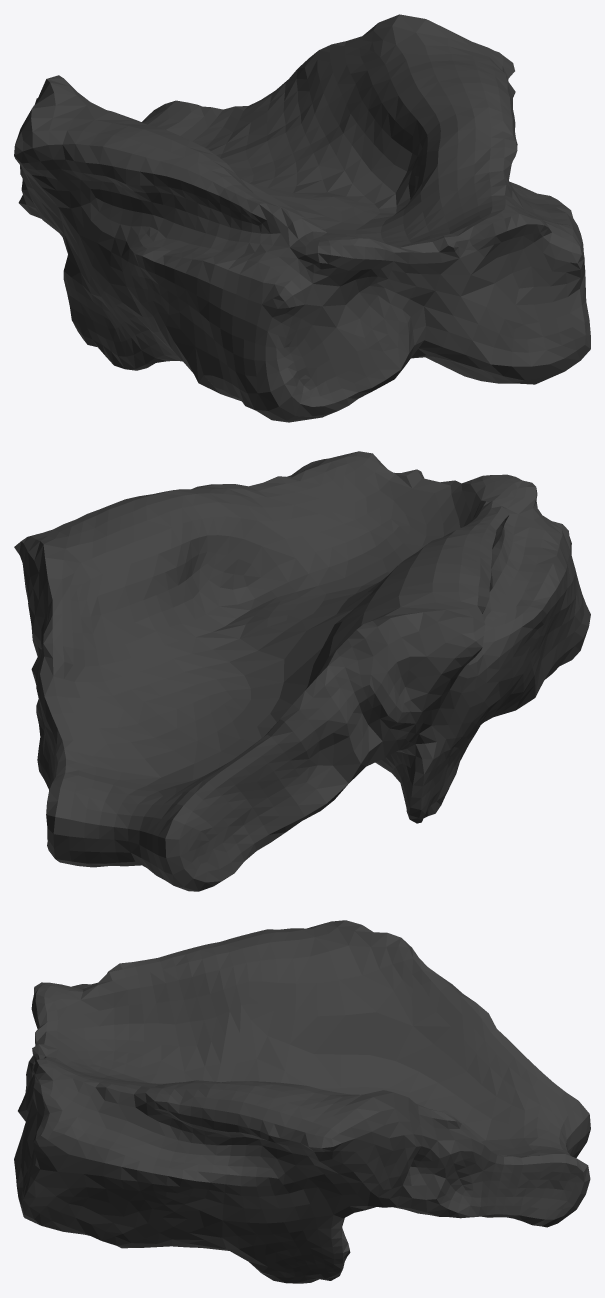
File: Basioccipital.glb
The picture shows the model from 3 angles, top to bottom: view 1: azimuth 30°, elevation 25°; view 2: azimuth 150°, elevation 25°; view 3: azimuth 270°, elevation 25°; orthographic projection. The views are drawn at different scales.
Visible parts, largest first — view 1: Basioccipital; view 2: Basioccipital; view 3: Basioccipital.
Boxes of the visible parts, bbox=[...] form: Basioccipital: bbox=[14, 14, 590, 422]; Basioccipital: bbox=[14, 451, 590, 891]; Basioccipital: bbox=[14, 920, 590, 1283].
Bounding box in the file's own units: 147 × 79.94 × 182.
1 material, 1 textured.
